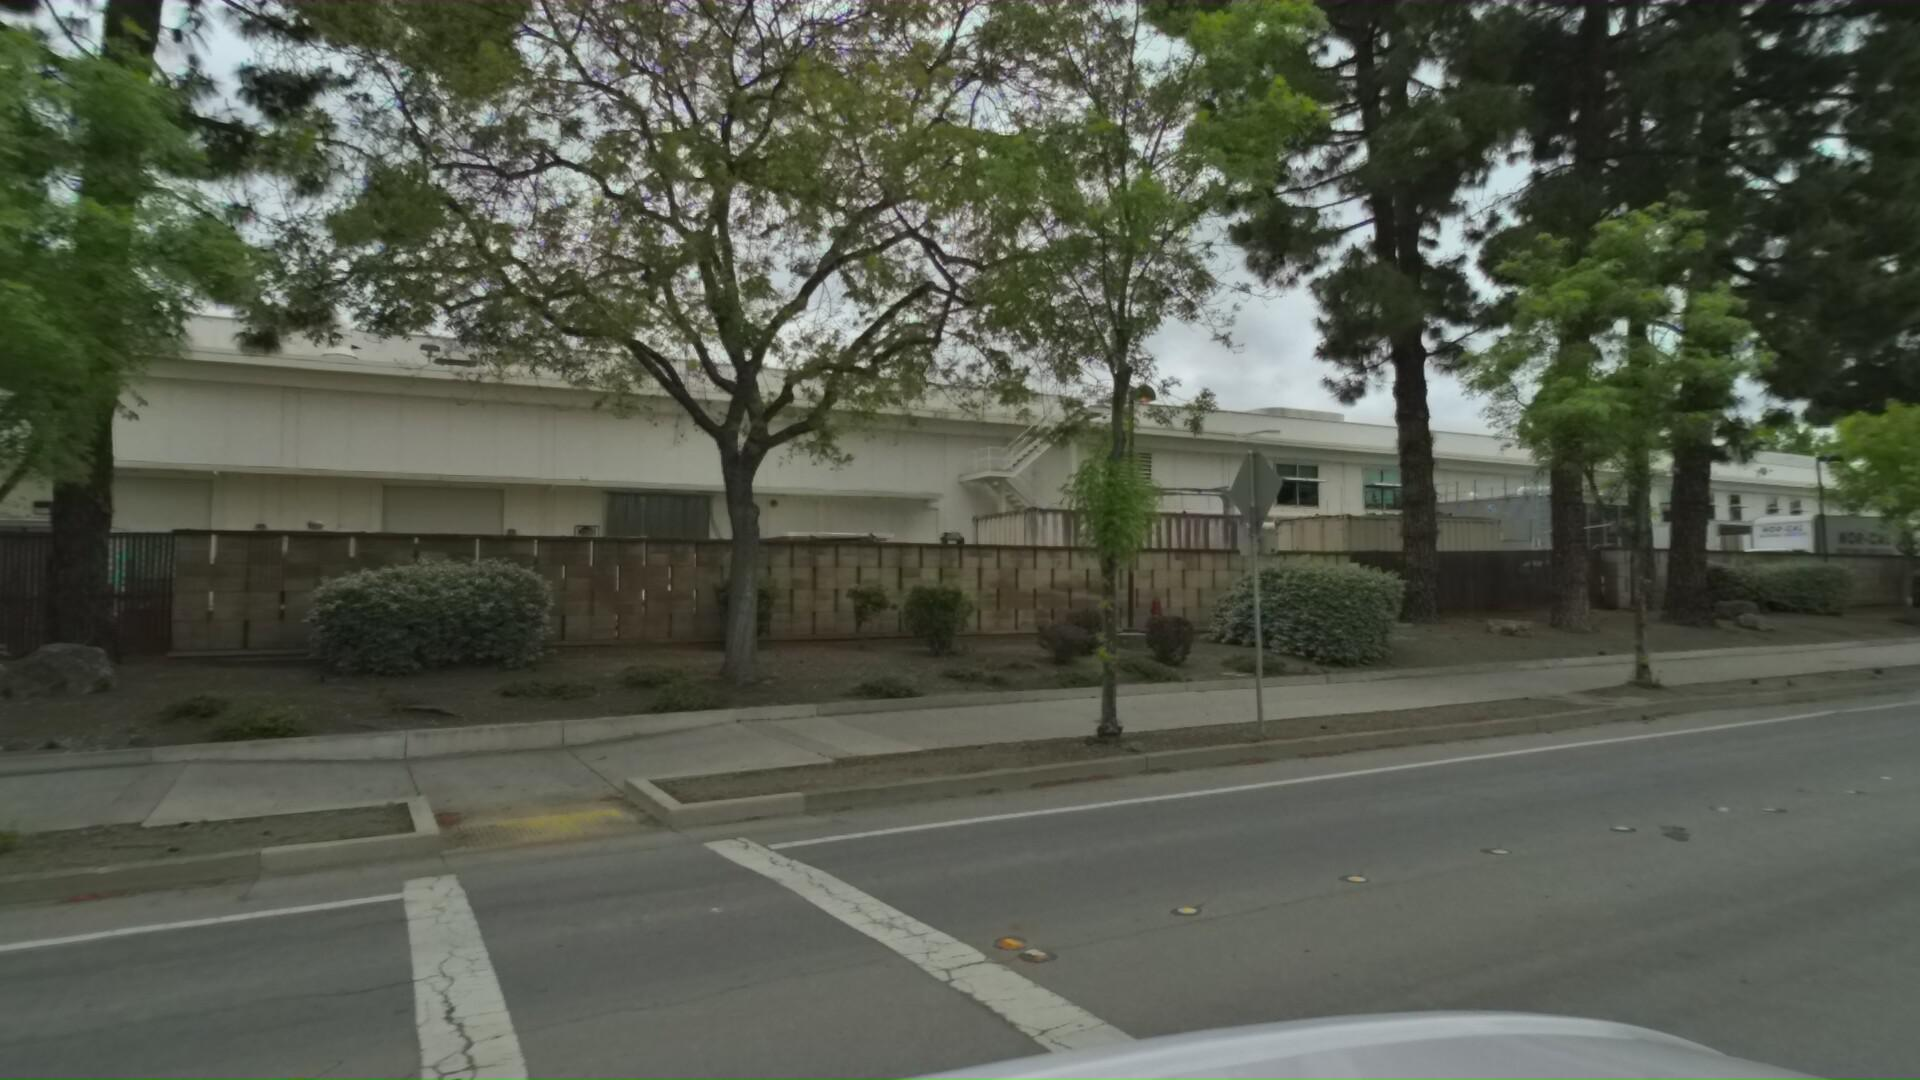truck: (1712, 508, 1909, 601)
